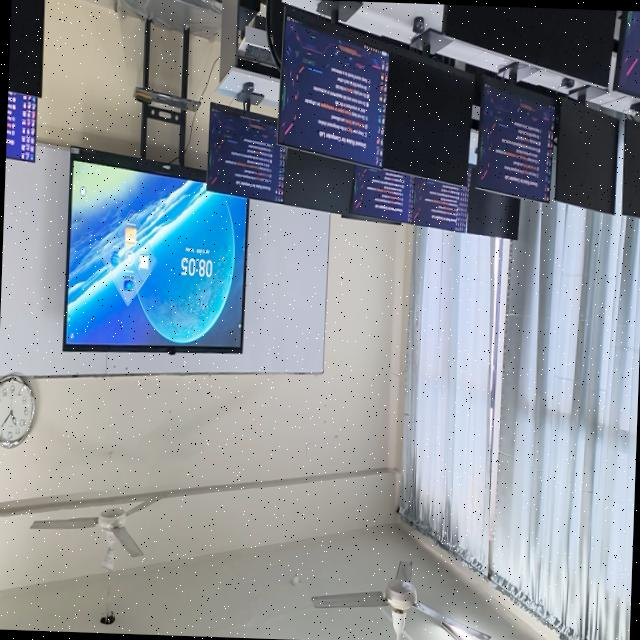Chair: (465, 63, 494, 130), (265, 0, 284, 77)
Cpu: (237, 0, 260, 34)
Digital board: (63, 0, 248, 355)
Keyboard: (244, 45, 275, 66)
Light: (443, 625, 470, 640)
Monitor: (277, 0, 388, 167), (441, 4, 616, 87), (383, 28, 474, 186), (476, 62, 555, 203), (555, 85, 619, 214), (207, 104, 286, 203), (283, 148, 355, 217), (467, 167, 520, 239), (8, 0, 45, 97), (351, 166, 413, 222), (411, 178, 468, 232), (615, 10, 640, 100), (5, 92, 37, 162), (622, 118, 640, 218)
Mouse: (235, 82, 263, 112), (413, 16, 425, 34), (560, 78, 574, 88), (630, 102, 640, 115)
